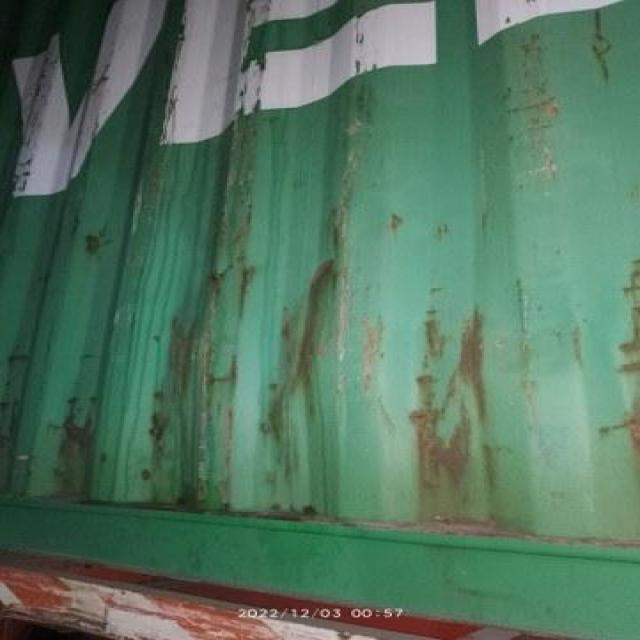Rust: (162, 265, 333, 451), (416, 312, 511, 519)
